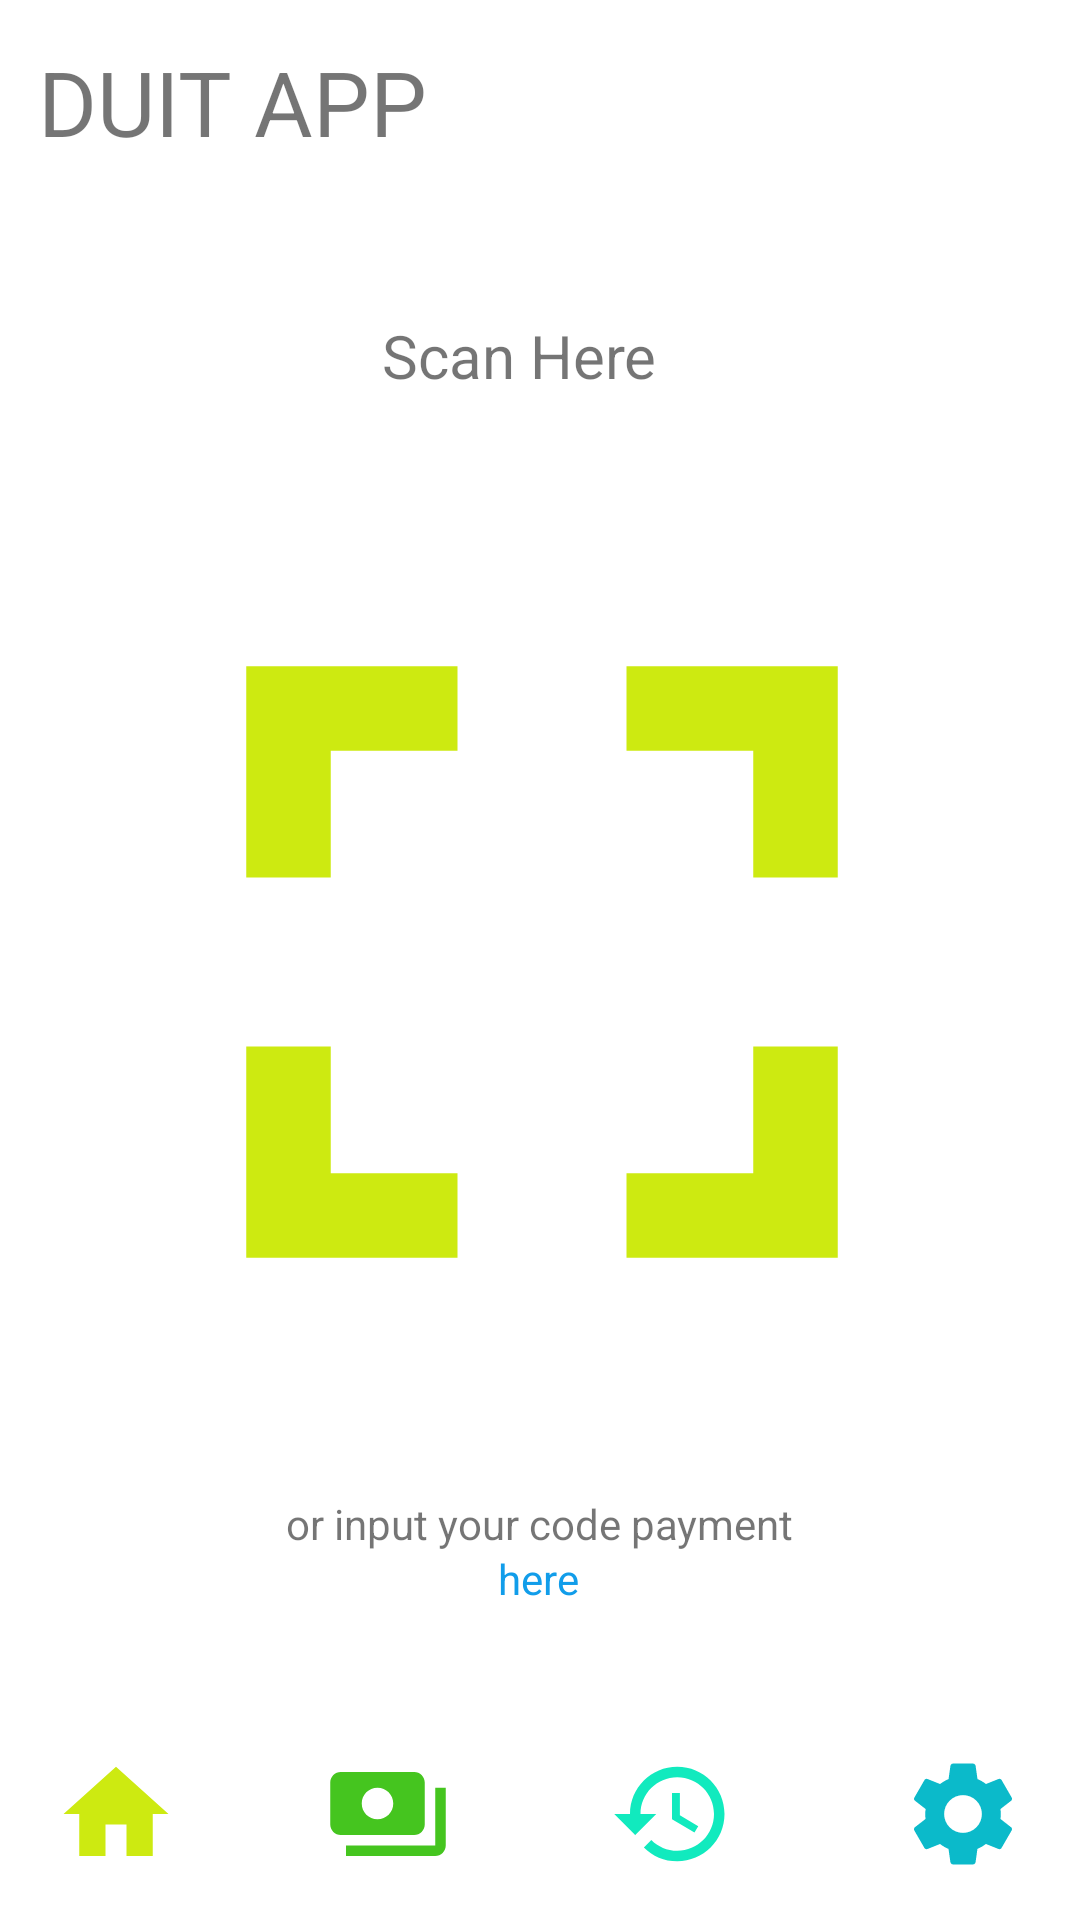

Icons on this 1080×1920 Android screen, each with the point to tap as (x=x, y=y):
history: (x=669, y=1814)
home: (x=116, y=1811)
payments: (x=388, y=1814)
settings: (x=963, y=1814)
